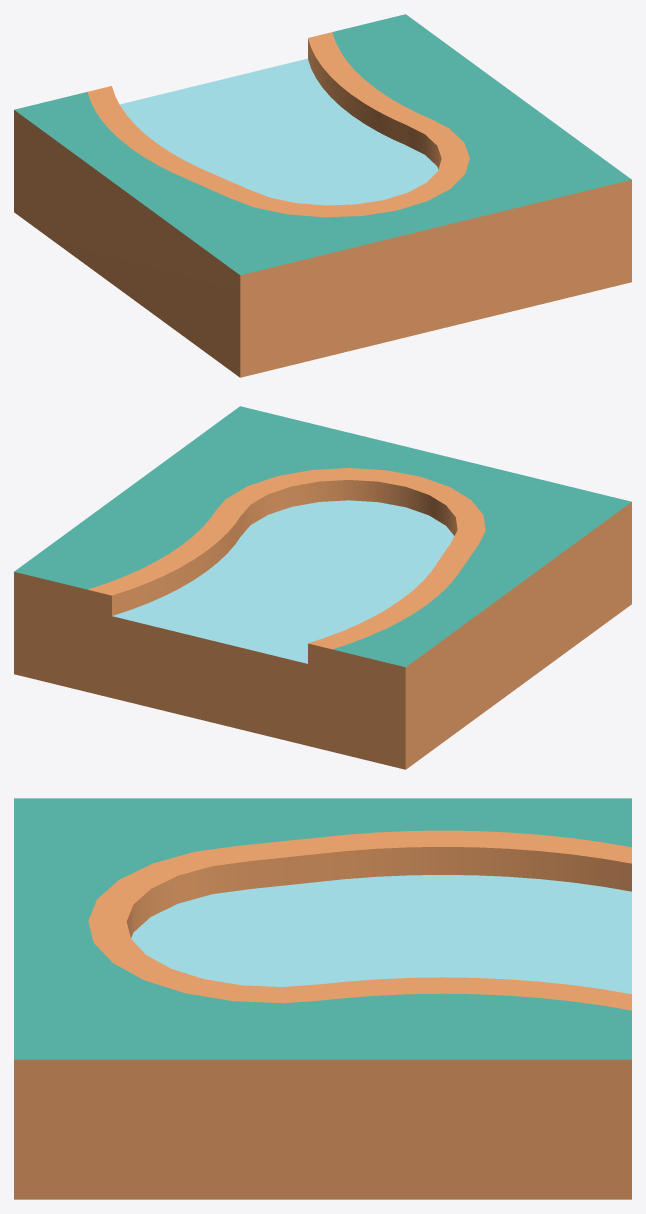
Rendered from ground_river_end.obj.
3 views of the same model, one above another, from view 1: azimuth 30°, elevation 25°; view 2: azimuth 150°, elevation 25°; view 3: azimuth 270°, elevation 25° (orthographic). The views are drawn at different scales.
Visible parts, largest first — view 1: ground_dirtRiverEnd; view 2: ground_dirtRiverEnd; view 3: ground_dirtRiverEnd.
Boxes of the visible parts, x1,y1,x2,y2 form: ground_dirtRiverEnd: (14,14,631,377); ground_dirtRiverEnd: (14,406,631,769); ground_dirtRiverEnd: (14,798,631,1199).
Bounding box in the file's own units: 10 × 2.5 × 10.
